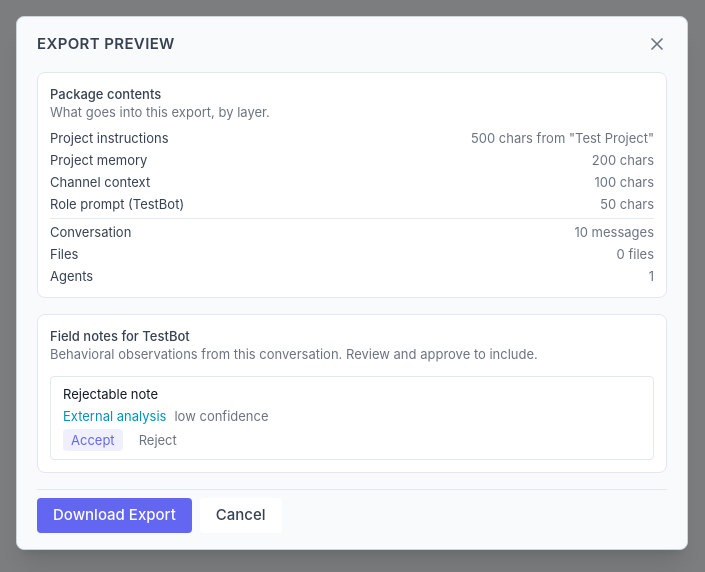
NoteCard interactions › Reject button transitions note to rejected state with strikethrough
Click the button "Reject".
click(158, 440)  # box left=131, top=429, right=185, bottom=451
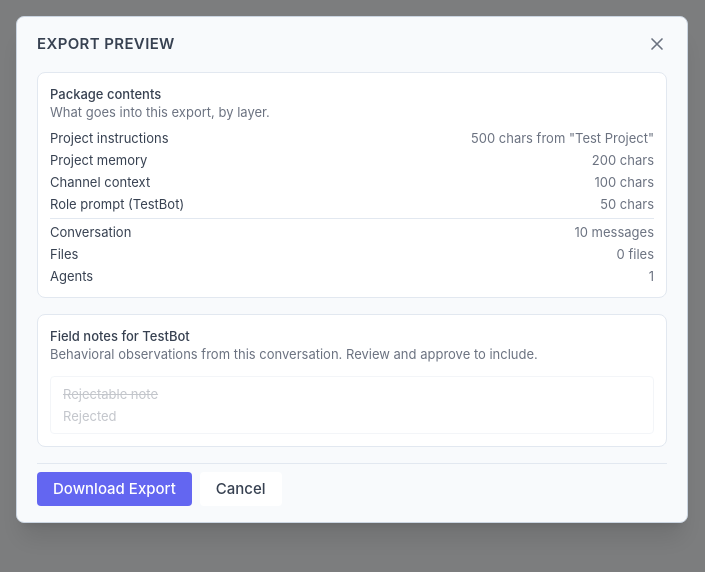
Expected: the text "Rejected" is shown, left=63, top=408, right=117, bottom=424
Expected: the button "Accept" is gone
